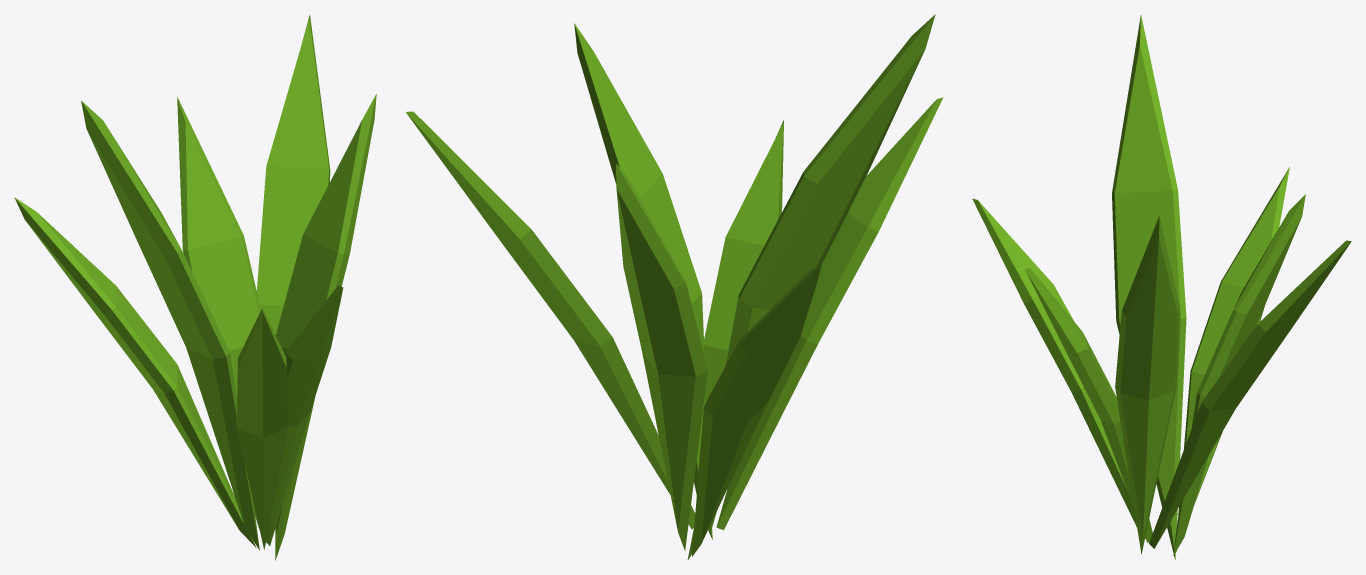
The model's file is SM_Grass_1B.fbx.
The picture shows the model from 3 angles, left to right: view 1: azimuth 30°, elevation 25°; view 2: azimuth 150°, elevation 25°; view 3: azimuth 270°, elevation 25°; orthographic projection. The views are drawn at different scales.
Parts seen in each view (by area): view 1: SM_Grass_1B_LOD0; view 2: SM_Grass_1B_LOD0; view 3: SM_Grass_1B_LOD0.
Boxes of the visible parts, box(x1,y1,x2,y2) form: SM_Grass_1B_LOD0: box(14, 14, 376, 560); SM_Grass_1B_LOD0: box(406, 14, 943, 559); SM_Grass_1B_LOD0: box(972, 15, 1351, 559).
Bounding box in the file's own units: 104 × 110 × 147.
Materials: 1 (1 with a texture image).
